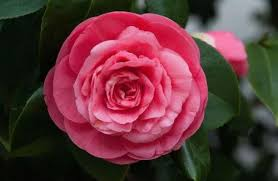rose: (39, 10, 209, 164)
